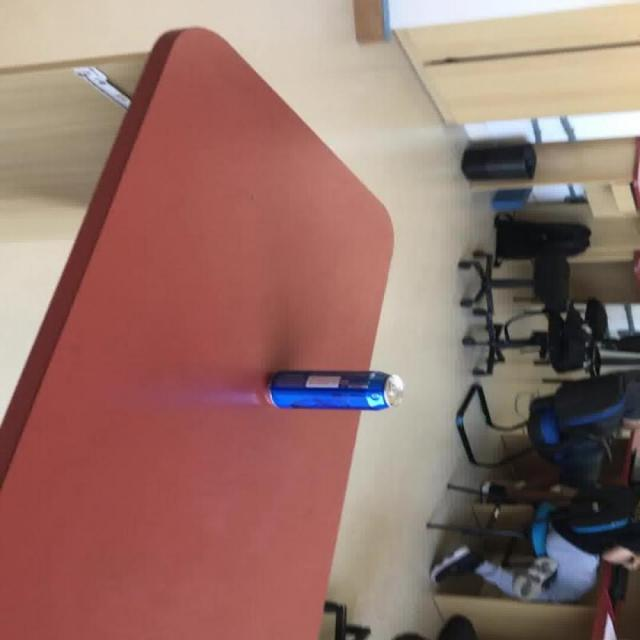Tonic: (265, 369, 402, 410)
